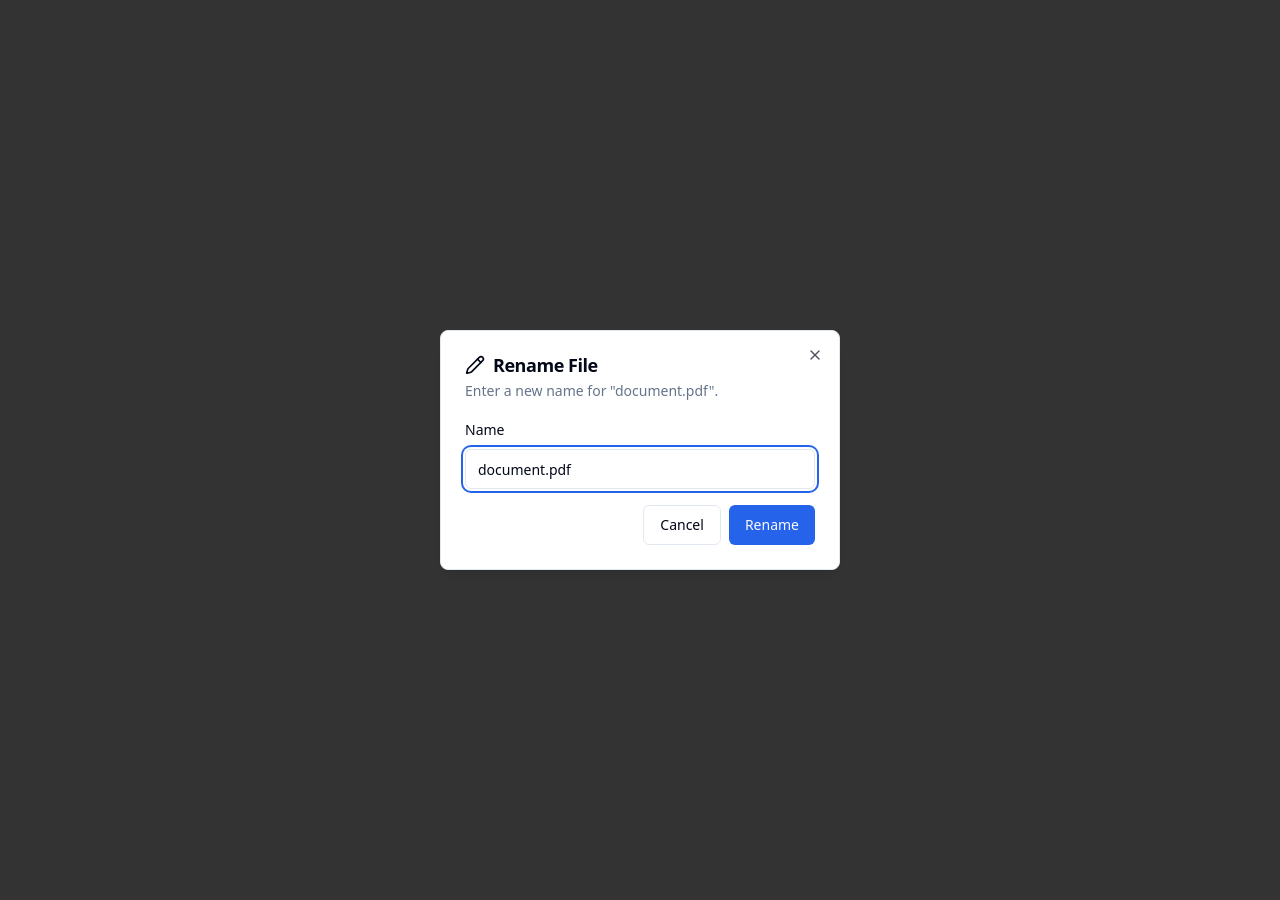
RenameDialog › should show error for invalid characters
Replace the text in the field labelled "Name" with "invalid<name>.pdf" at (640, 469), box [465, 449, 815, 489]
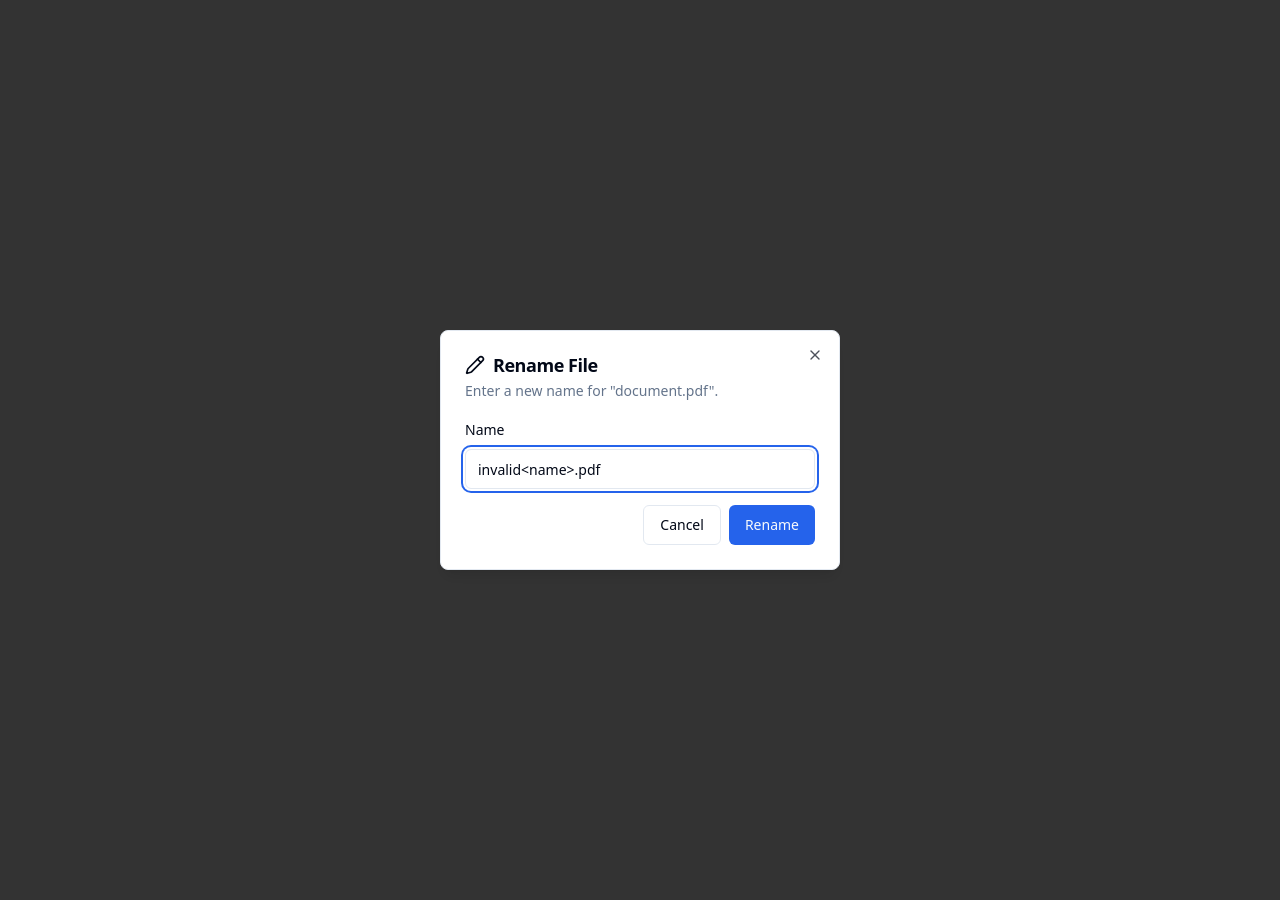
Click the button "Rename" at (772, 525), box [729, 505, 815, 545]
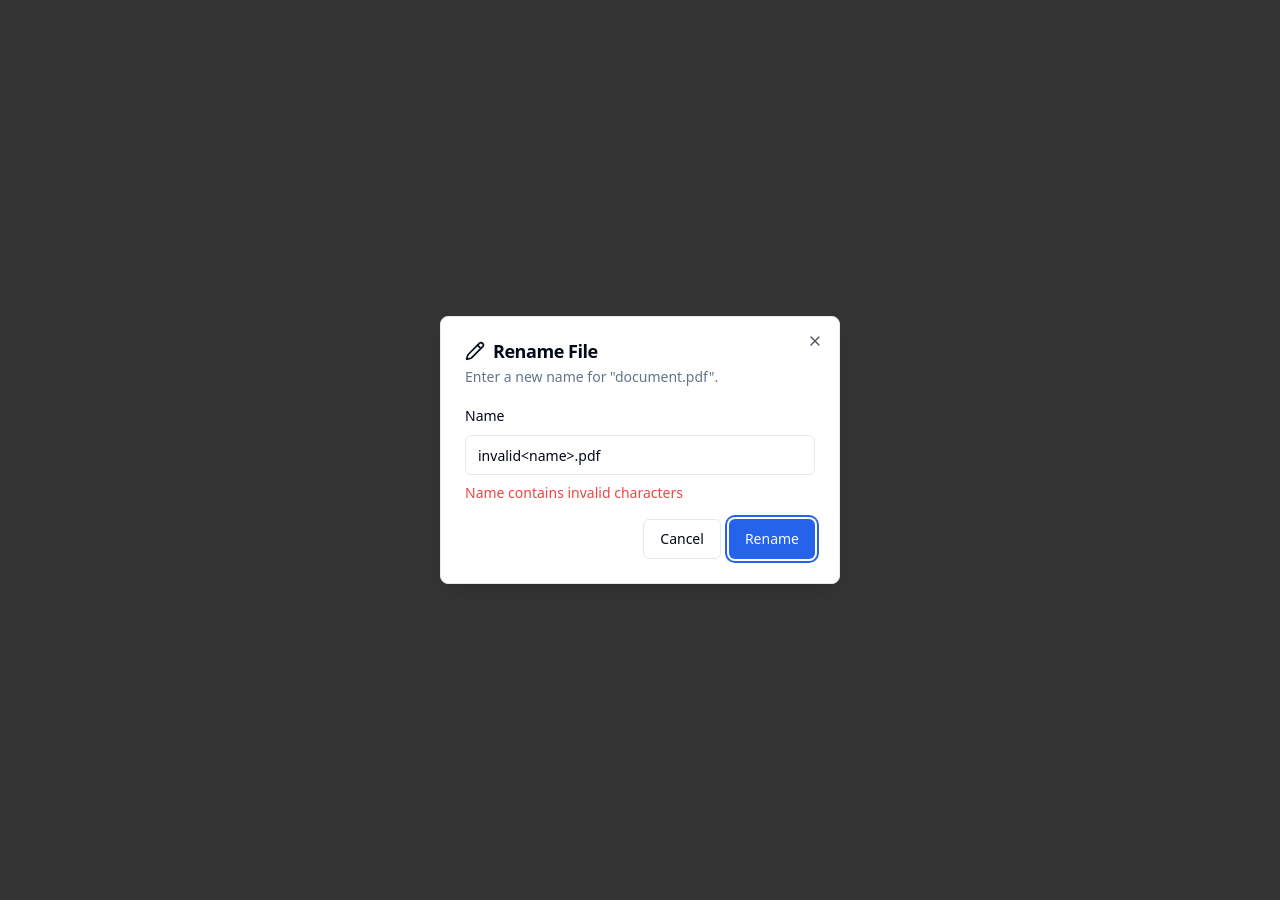
Expected: the text "Name contains invalid characters" is shown, [465, 483, 683, 502]
